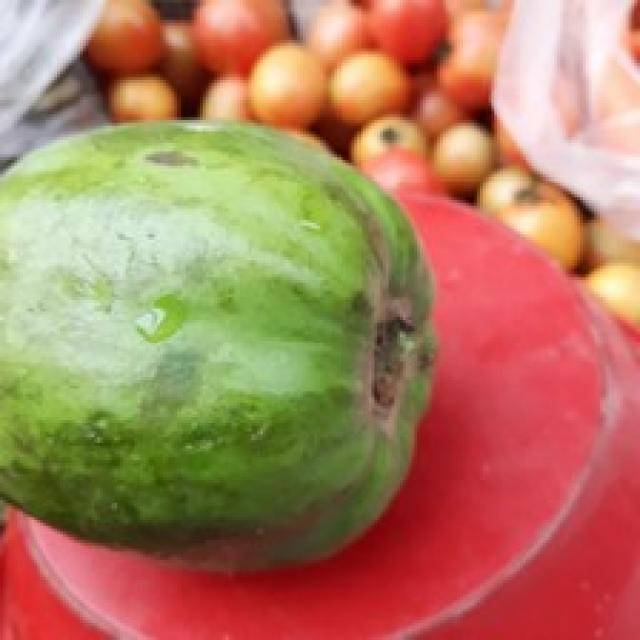Pepaya unrippen: (2, 111, 450, 576)
